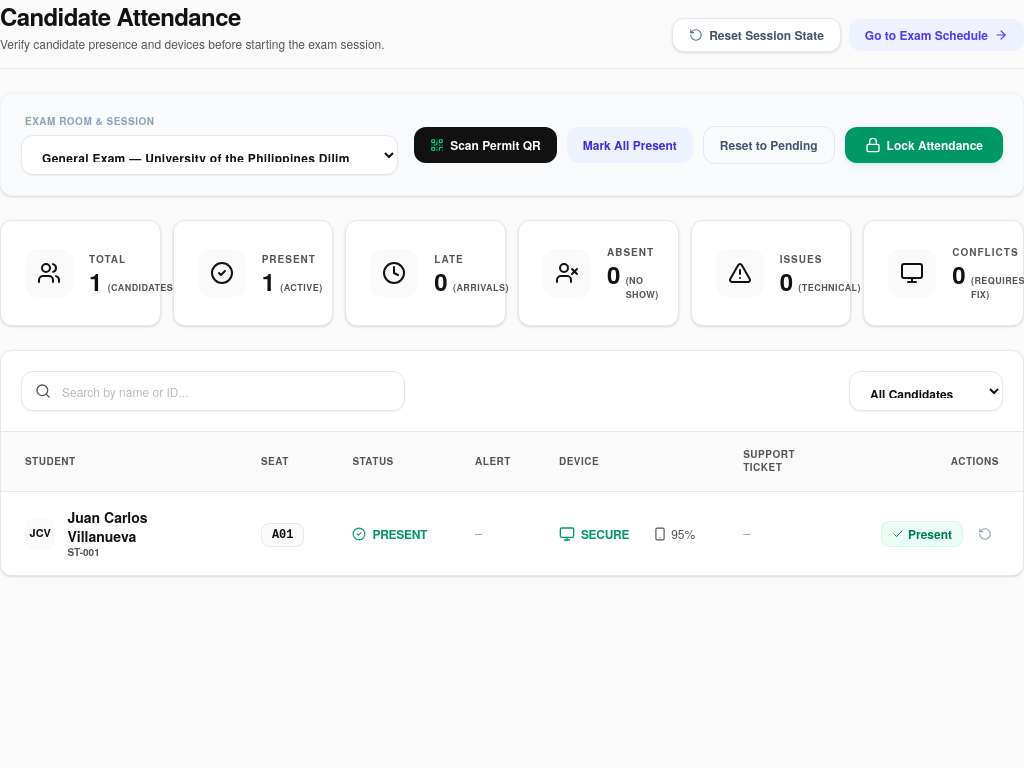
Test case: ProctorAttendance — QR scan › is a no-op with an inline message when the scanned candidate is already marked
Click the button "Scan Permit QR" at {"x": 486, "y": 144}, box [414,126,557,162]
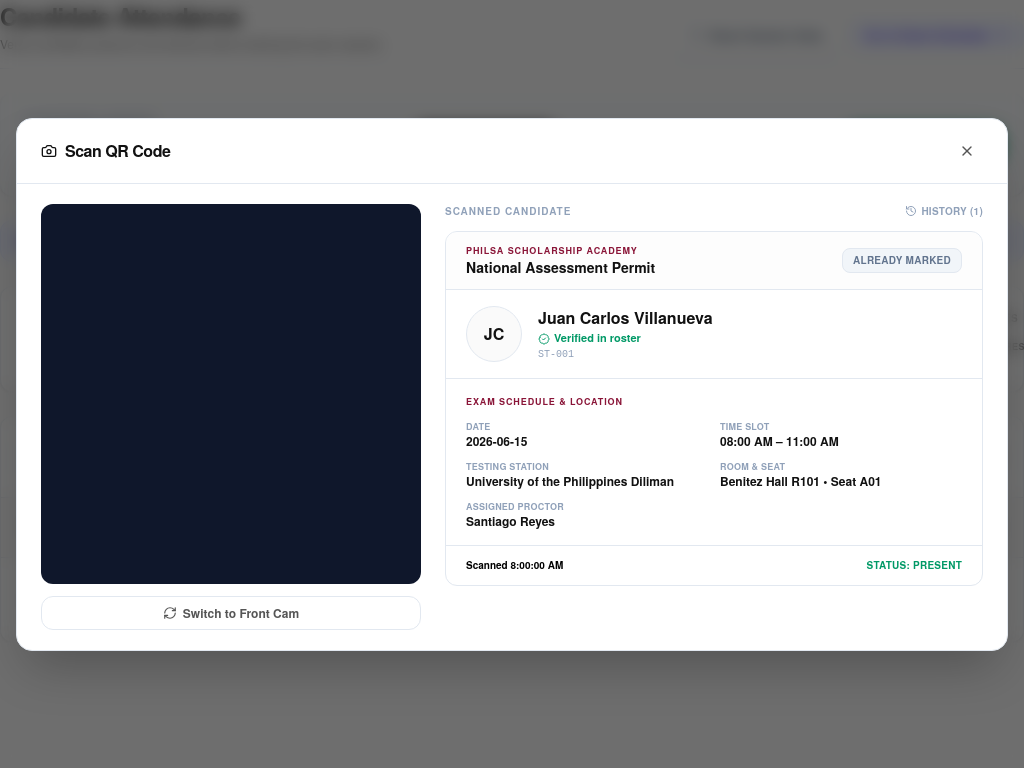
expect the text "Already marked Present for Juan Carlos Villanueva." is shown: met, box [17,233,331,249]
